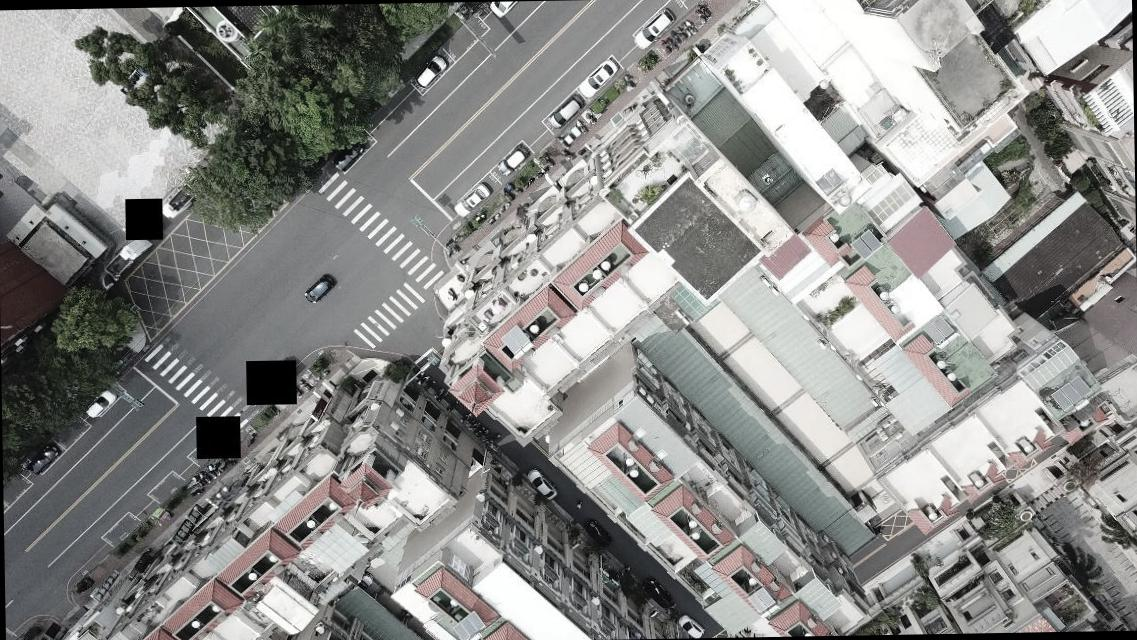vehicle: (632, 6, 676, 50), (578, 58, 620, 98), (546, 92, 584, 130), (452, 181, 492, 217), (413, 54, 448, 90), (23, 442, 61, 474), (303, 273, 338, 305), (526, 467, 558, 501), (332, 140, 366, 172), (496, 144, 530, 176), (641, 575, 673, 607), (84, 388, 118, 418), (583, 517, 613, 547), (676, 612, 703, 637), (487, 2, 520, 20)
